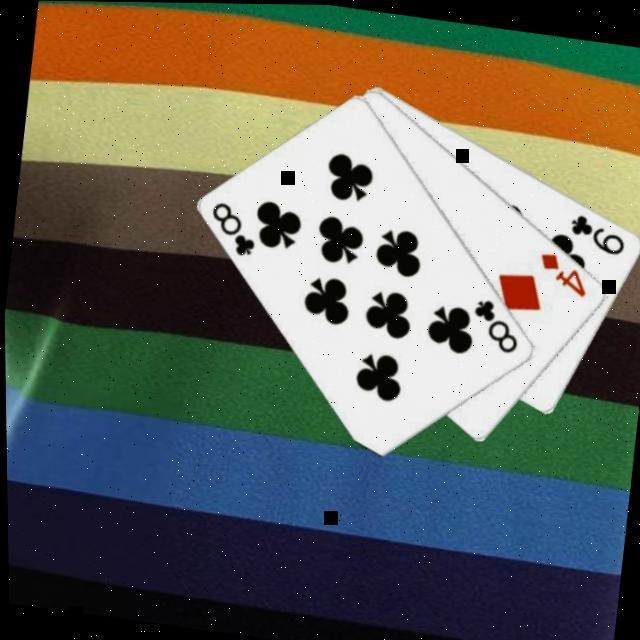4D: (530, 244, 591, 296)
8C: (462, 289, 523, 354), (202, 194, 260, 257)
9C: (561, 205, 629, 255)
